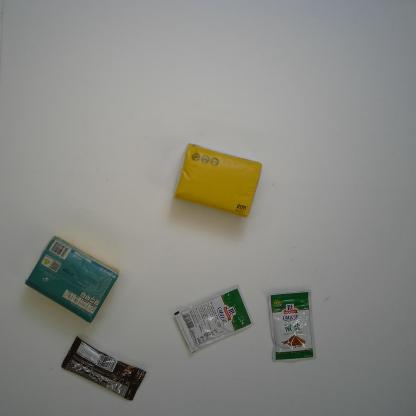Chocolate: (60, 336, 148, 401)
Seasoner: (174, 283, 256, 354), (268, 288, 316, 363)
Tissue: (23, 234, 121, 324), (172, 142, 262, 218)
